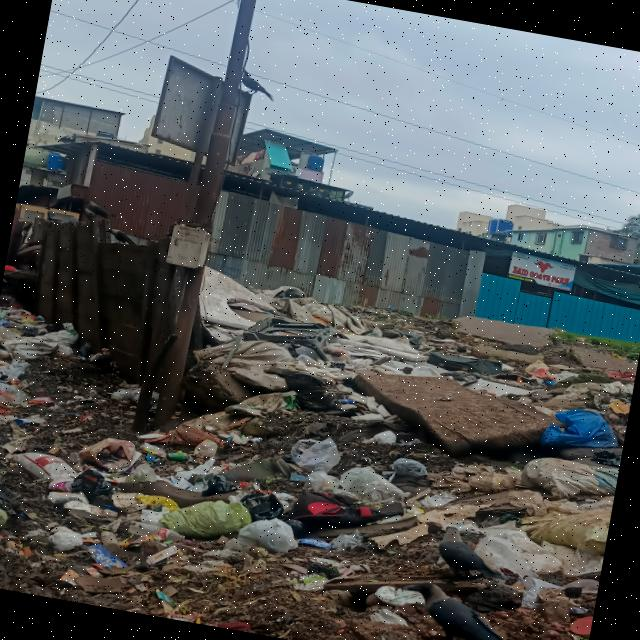garbage: (130, 420, 613, 640), (181, 268, 640, 489), (0, 301, 161, 608)
